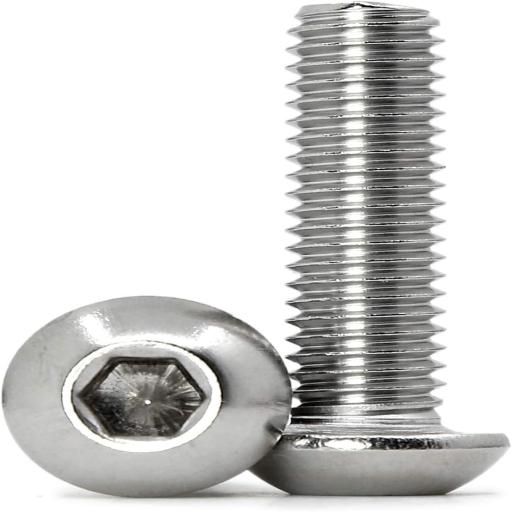Hex-Allen: (2, 291, 289, 501)
